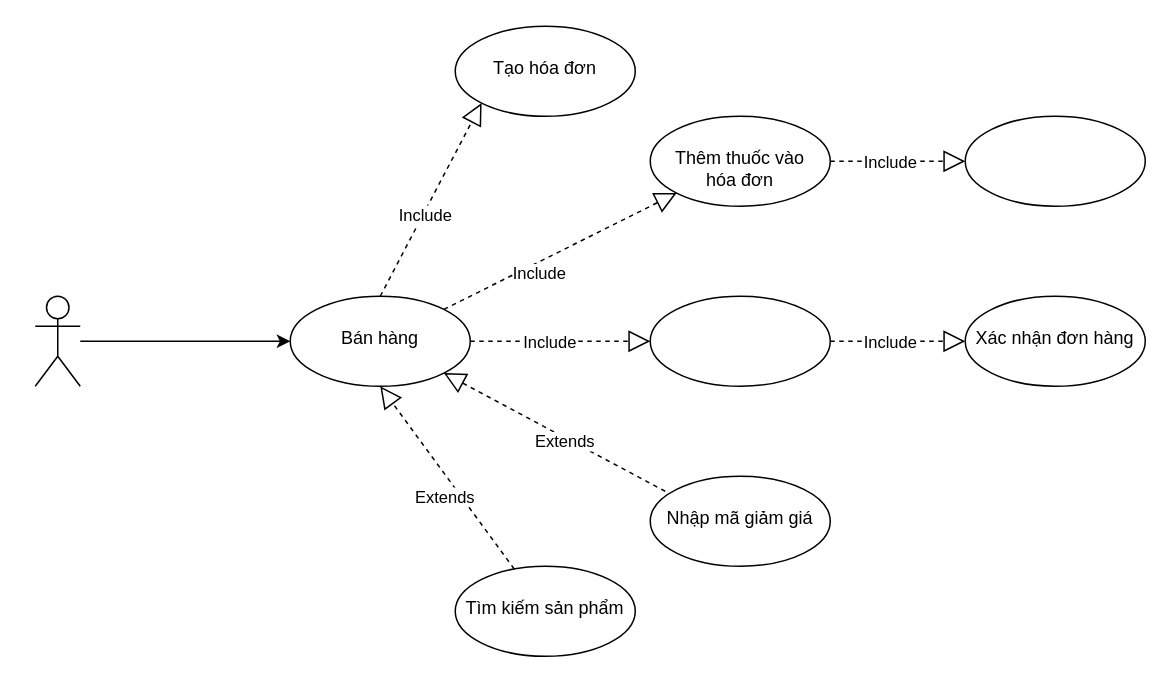
Image size: 1172x683. Some labels were removed from this diagram. The centre of each missing label's shape, as x and y in pixels:
"Dược sĩ" goes at pixel 57 340.
"In hóa đơn" goes at pixel 739 340.
"Nhập số lượng" goes at pixel 1054 160.
